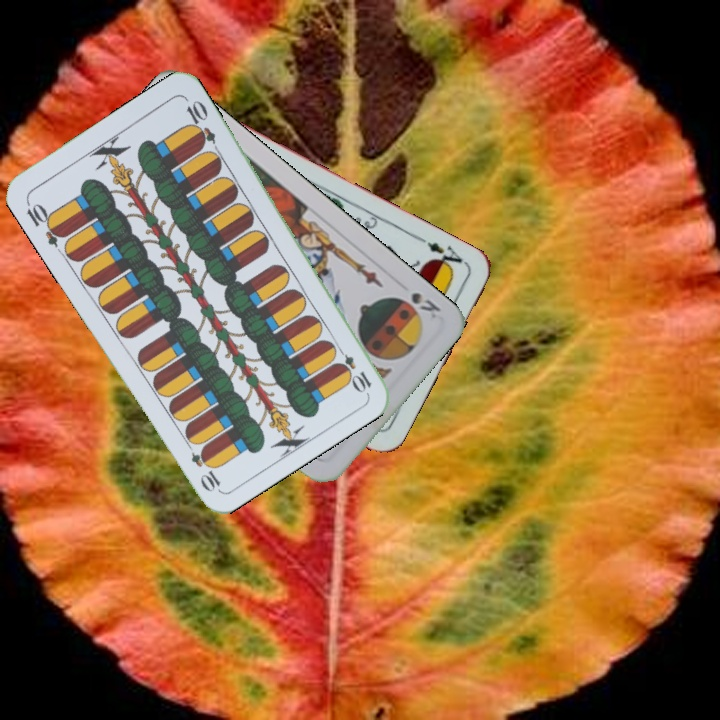E10: (22, 197, 68, 249), (331, 341, 374, 395)
EA: (414, 233, 469, 274)
SK: (407, 288, 444, 322)
